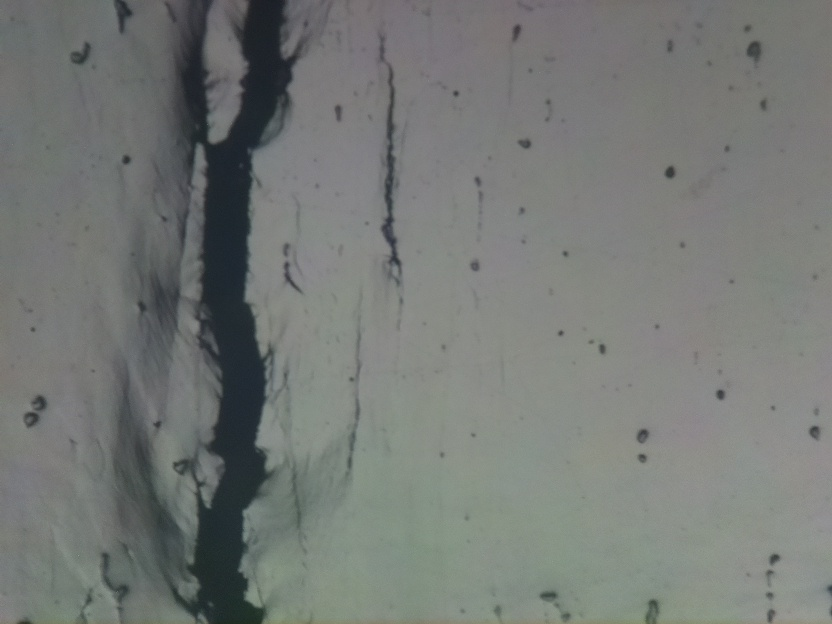crack: (175, 0, 290, 624), (372, 35, 406, 273)
